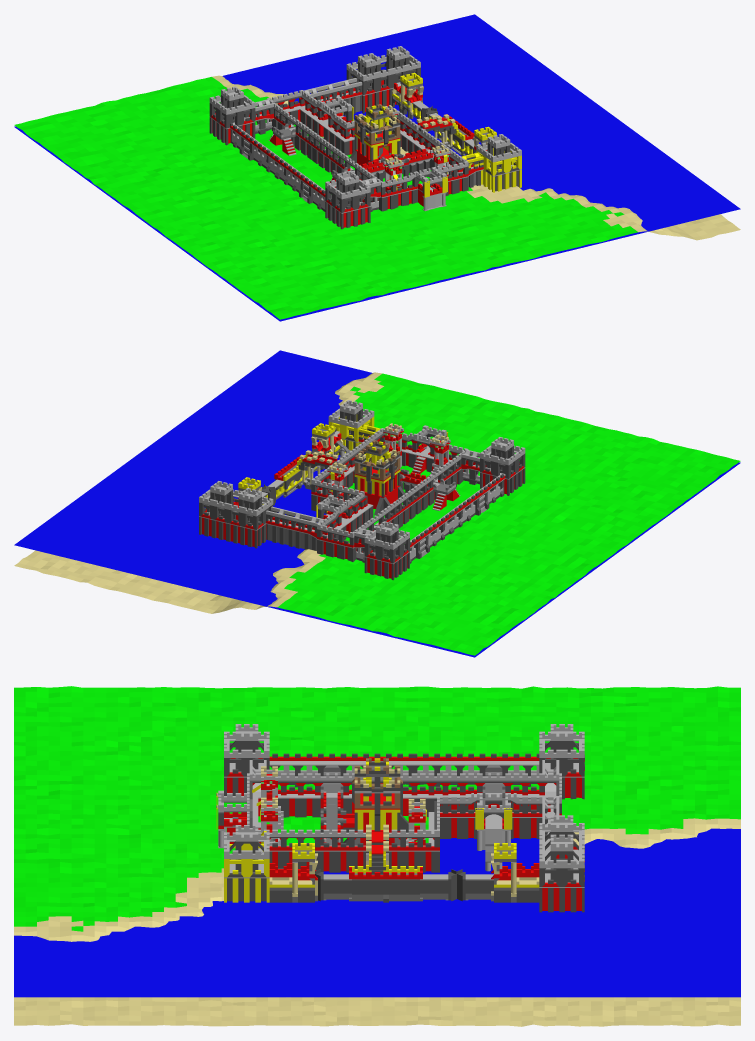
File: Maznar.fbx
3 views of the same model, one above another, from view 1: azimuth 30°, elevation 25°; view 2: azimuth 150°, elevation 25°; view 3: azimuth 270°, elevation 25° (orthographic). The views are drawn at different scales.
Parts seen in each view (by area): view 1: Ground, Water, Harbor Bridge, Fortress Gate 3, Harbor Tower N, Fortress Gate 1, Citadel Door Side, Citadel Side.001, Fortress Causeway.001, Harbor Island, Keep Tower; view 2: Ground, Water, Citadel Side, Fortress Gate 1, Fortress Gate 3, Harbor Bridge, Citadel Side.001, Harbor Tower S, Harbor Island, Keep Wall.004, Keep Wall.007, Keep Wall.011; view 3: Ground, Water, Harbor Island, Harbor Tower S, Harbor Tower N, Citadel Side.006, Harbor Bridge, Fortress Gate 3, Fortress Gate 2.001, Fortress Gate 1, Gilded Keep Wall.002, Keep Wall.006 (+20 smaller).
Boxes of the visible parts, box(x1,y1,x2,y2) form: Ground: box(14, 75, 740, 319); Water: box(14, 14, 740, 321); Harbor Bridge: box(407, 114, 458, 154); Fortress Gate 3: box(312, 96, 352, 142); Harbor Tower N: box(392, 72, 423, 118); Fortress Gate 1: box(407, 166, 446, 211); Citadel Door Side: box(371, 110, 403, 173); Citadel Side.001: box(349, 107, 374, 166); Fortress Causeway.001: box(397, 148, 433, 177); Harbor Island: box(436, 114, 474, 156); Keep Tower: box(386, 46, 409, 82); Ground: box(14, 372, 740, 655); Water: box(14, 350, 740, 657); Citadel Side: box(352, 446, 383, 515); Fortress Gate 1: box(406, 425, 446, 472); Fortress Gate 3: box(317, 494, 357, 539); Harbor Bridge: box(296, 450, 347, 489); Citadel Side.001: box(380, 443, 408, 512); Harbor Tower S: box(311, 423, 343, 469); Harbor Island: box(274, 454, 311, 497); Keep Wall.004: box(206, 498, 224, 539); Keep Wall.007: box(220, 501, 238, 543); Keep Wall.011: box(235, 505, 252, 546); Ground: box(14, 686, 740, 1026); Water: box(14, 828, 740, 997); Harbor Island: box(349, 866, 422, 902); Harbor Tower S: box(269, 843, 317, 902); Harbor Tower N: box(491, 843, 539, 902); Citadel Side.006: box(354, 766, 400, 845); Harbor Bridge: box(360, 824, 394, 874); Fortress Gate 3: box(471, 793, 516, 838); Fortress Gate 2.001: box(309, 773, 354, 817); Fortress Gate 1: box(216, 789, 258, 848); Gilded Keep Wall.002: box(235, 850, 258, 902); Keep Wall.006: box(550, 860, 573, 912).
Bounding box in the file's own units: 12800 × 2220 × 12800.
